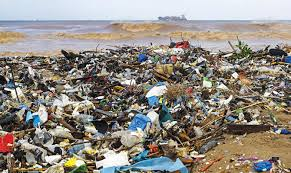garbage: (1, 57, 220, 173), (100, 48, 291, 138)
